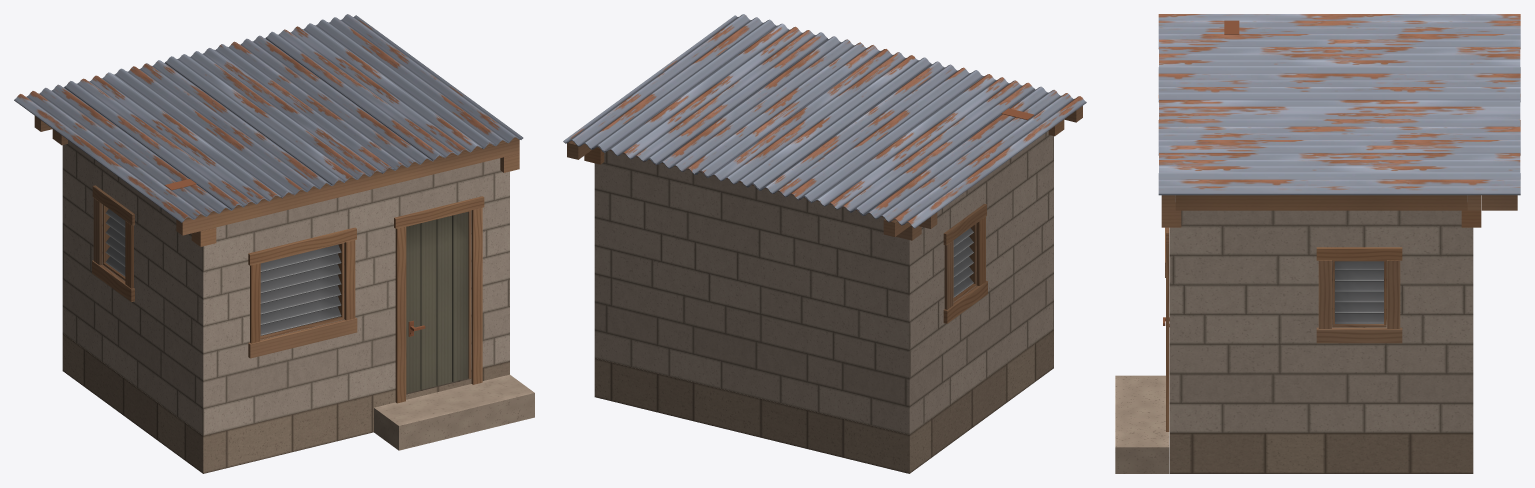
File: houdini_block_shed.glb
3 views of the same model, side by side, from view 1: azimuth 30°, elevation 25°; view 2: azimuth 150°, elevation 25°; view 3: azimuth 270°, elevation 25° (orthographic). The views are drawn at different scales.
Visible parts, largest first — view 1: LOD0; view 2: LOD0; view 3: LOD0.
Part boxes in pixels (x1,y1,x2,y2): LOD0: [14, 14, 534, 473]; LOD0: [563, 14, 1086, 473]; LOD0: [1115, 14, 1520, 473].
Size of what is drawn, in the model's own units: 4.35 by 3.25 by 4.13.
Materials: 5 (5 with a texture image).
